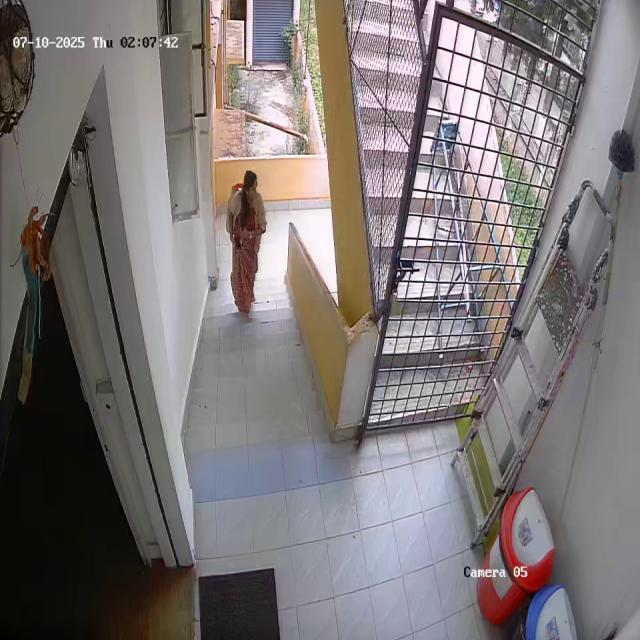person: (226, 170, 267, 318)
